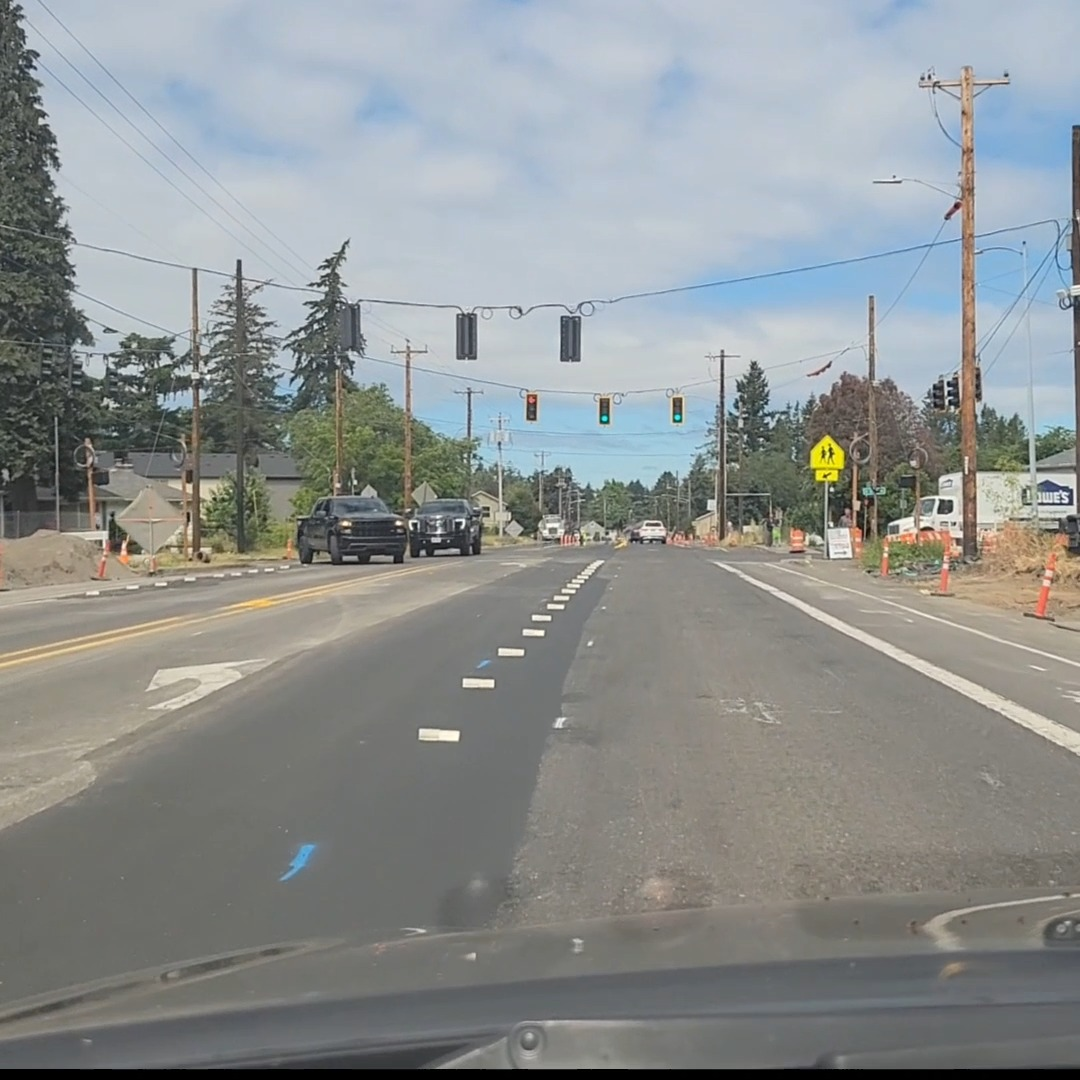car: (293, 494, 409, 563), (406, 498, 485, 557), (628, 519, 668, 543), (537, 514, 565, 541)
crosswalk-sign: (808, 433, 846, 480)
delineator: (1032, 540, 1063, 615), (929, 541, 954, 596), (93, 540, 110, 580), (879, 537, 890, 577), (283, 537, 294, 559), (147, 555, 157, 575)
